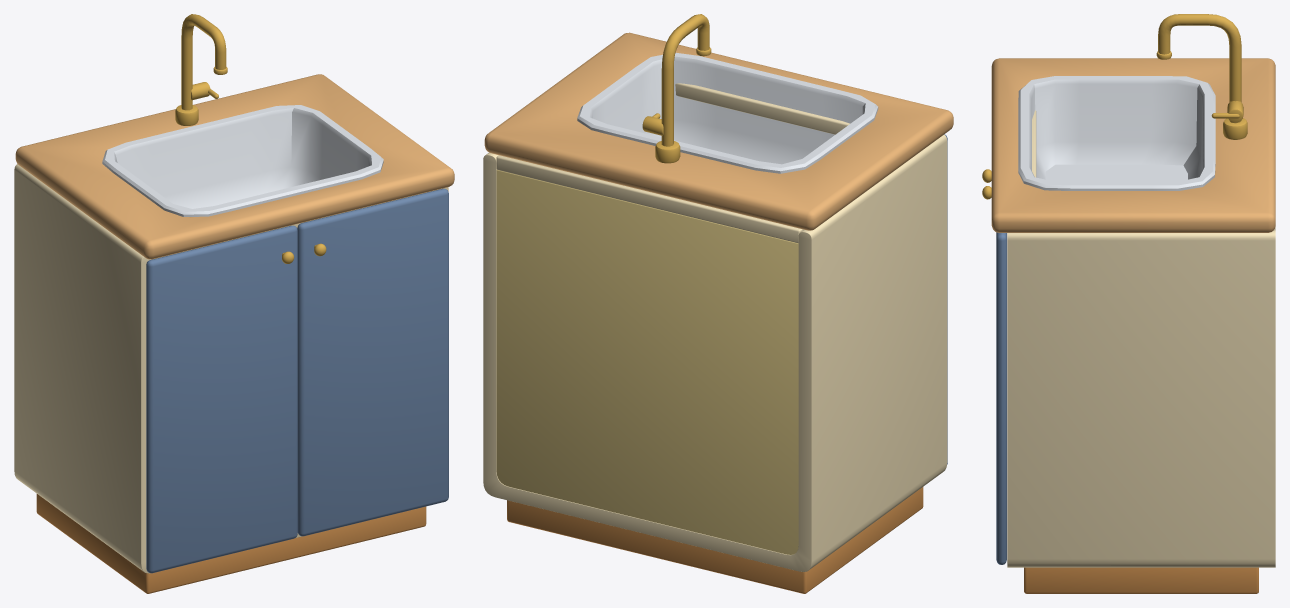
The model's file is armario_cozinha_pia_creme_azul.glb.
3 renders of one model, left to right at view 1: azimuth 30°, elevation 25°; view 2: azimuth 150°, elevation 25°; view 3: azimuth 270°, elevation 25°, orthographic. The views are drawn at different scales.
Visible parts, largest first — view 1: armario_cozinha_pia_creme_azul, porta_1, porta_2; view 2: armario_cozinha_pia_creme_azul; view 3: armario_cozinha_pia_creme_azul, porta_2.
Part boxes in pixels (box(x1,y1,x2,y2)): armario_cozinha_pia_creme_azul: box(14, 14, 454, 593); porta_1: box(146, 225, 297, 573); porta_2: box(297, 188, 448, 536); armario_cozinha_pia_creme_azul: box(483, 14, 953, 593); armario_cozinha_pia_creme_azul: box(991, 14, 1275, 593); porta_2: box(982, 186, 1006, 564).
Bounding box in the file's own units: 0.798 × 1.18 × 0.619.
Materials: 1 (1 with a texture image).
